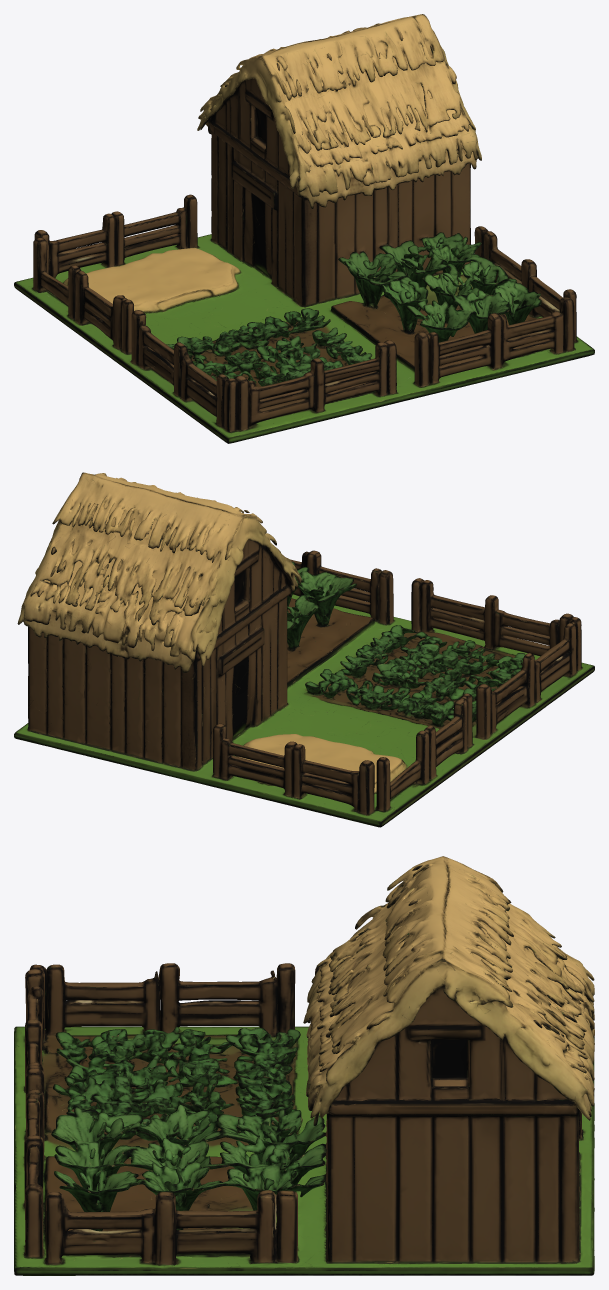
The model's file is farm.glb.
The picture shows the model from 3 angles, top to bottom: view 1: azimuth 30°, elevation 25°; view 2: azimuth 150°, elevation 25°; view 3: azimuth 270°, elevation 25°; orthographic projection. The views are drawn at different scales.
Parts seen in each view (by area): view 1: world; view 2: world; view 3: world.
Boxes of the visible parts, box(x1,y1,x2,y2) form: world: box(14, 14, 594, 443); world: box(14, 472, 594, 827); world: box(14, 856, 594, 1275).
Bounding box in the file's own units: 0.9884 × 0.5872 × 1.
Materials: 1 (1 with a texture image).
